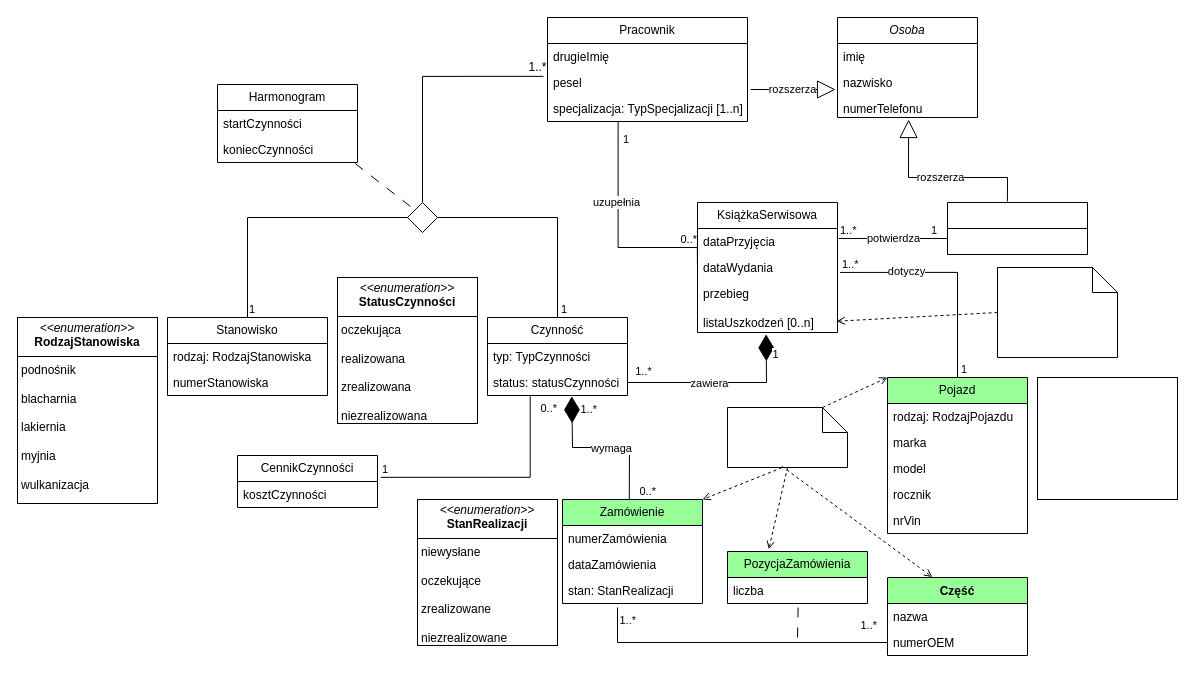
This 1195x676 diagram has some shape labels left out. The centre of each missing label's shape, as x and y in pixels:
<<enumeration>> RodzajPojazdu samochódOsobowy motocykl samochódCiężarowy: point 1107,438
Dane dla EDI: point 787,437
Klient: point 1017,228
Lista uszkodzeń dotyczy uszkodzeń widocznych: point 1057,312
